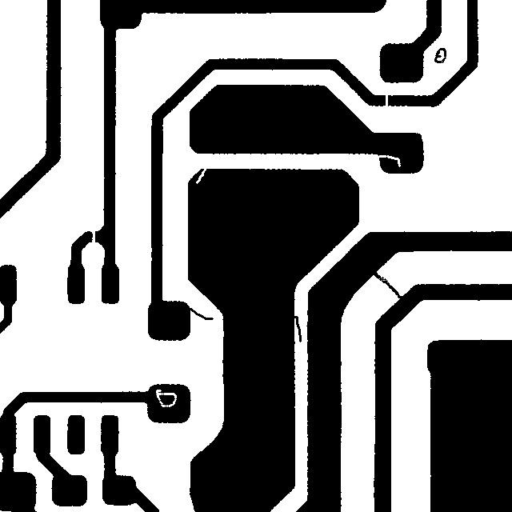copper: (426, 40, 454, 70)
mousebite: (368, 147, 408, 174), (188, 160, 214, 191)
open: (82, 222, 102, 250), (378, 86, 395, 118)
pin-hole: (148, 382, 184, 414)
short: (358, 258, 413, 310)
spur: (180, 300, 221, 327), (285, 308, 309, 350)
